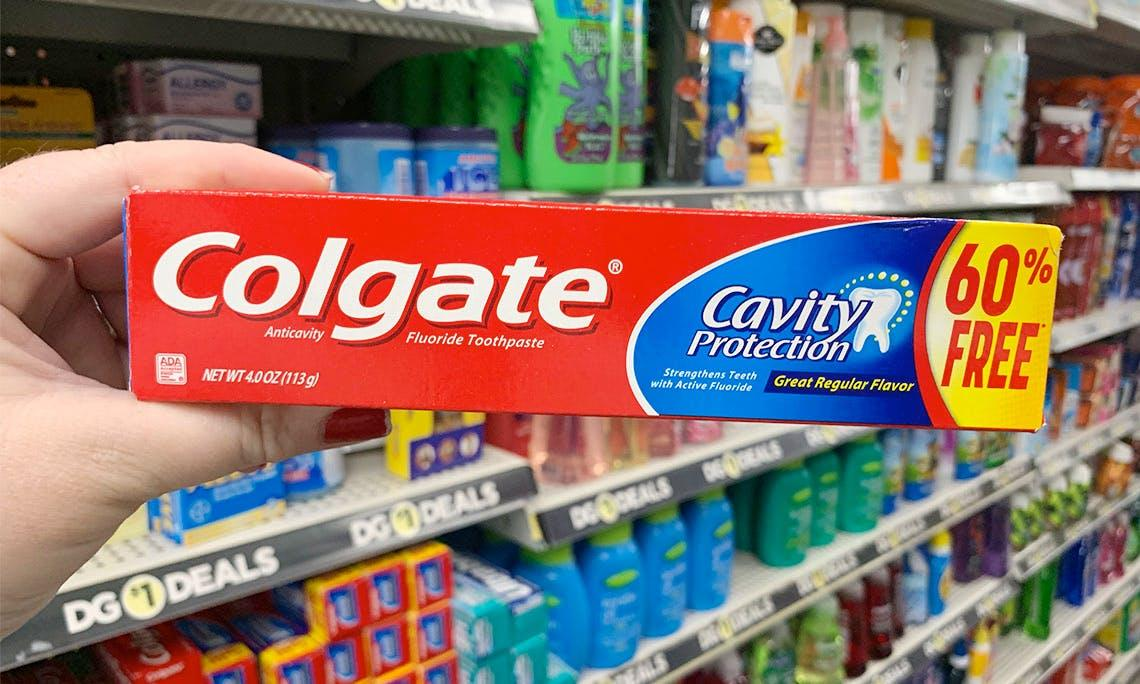toothpaste: (110, 173, 1057, 440)
